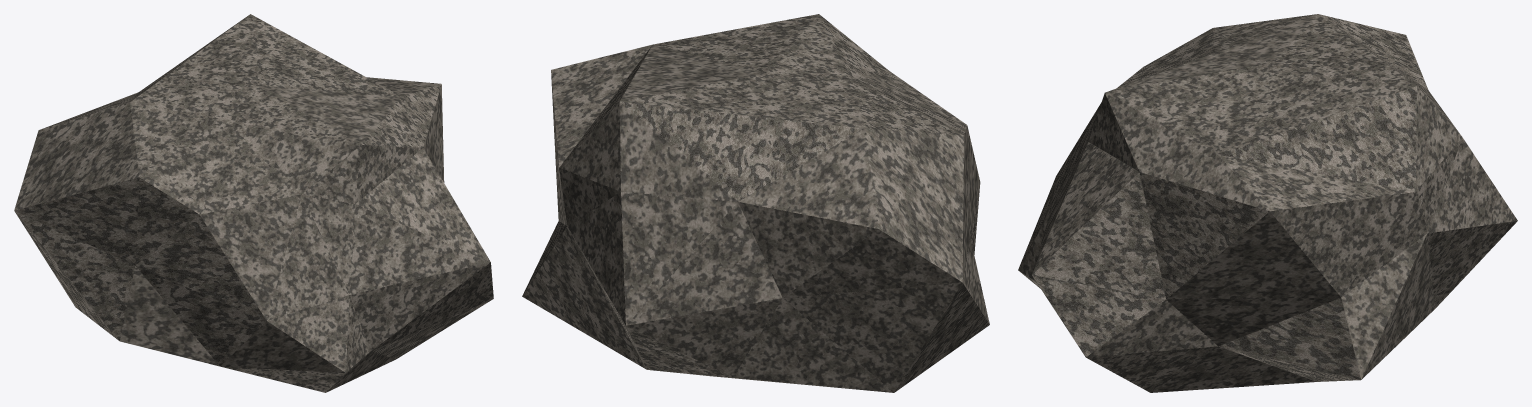
File: rock_large.glb
3 renders of one model, left to right at view 1: azimuth 30°, elevation 25°; view 2: azimuth 150°, elevation 25°; view 3: azimuth 270°, elevation 25°, orthographic. The views are drawn at different scales.
Visible parts, largest first — view 1: RockLarge; view 2: RockLarge; view 3: RockLarge.
Part boxes in pixels (left/top/right/bottom): RockLarge: left=14, top=14, right=493, bottom=392; RockLarge: left=522, top=14, right=989, bottom=392; RockLarge: left=1018, top=14, right=1517, bottom=392.
Bounding box in the file's own units: 3 × 2 × 3.
1 material, 1 textured.
